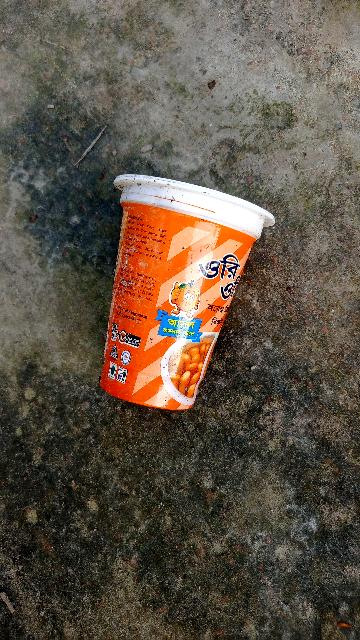hardplastic: (47, 170, 271, 430)
